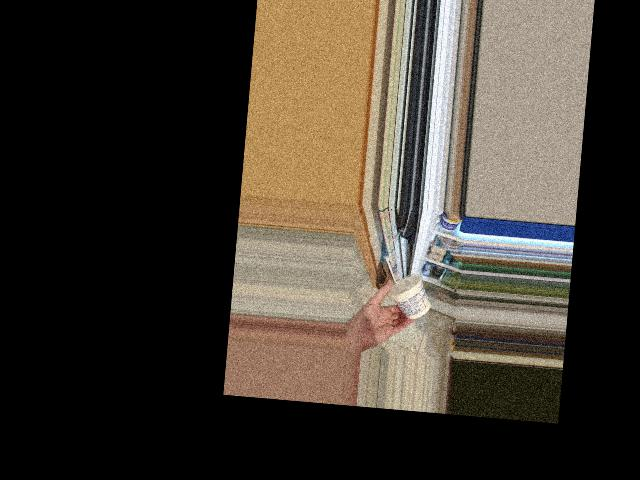cotage: (389, 271, 431, 319)
